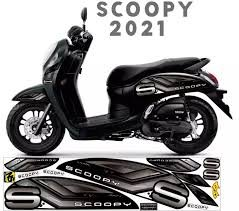motor: (5, 32, 236, 153)
